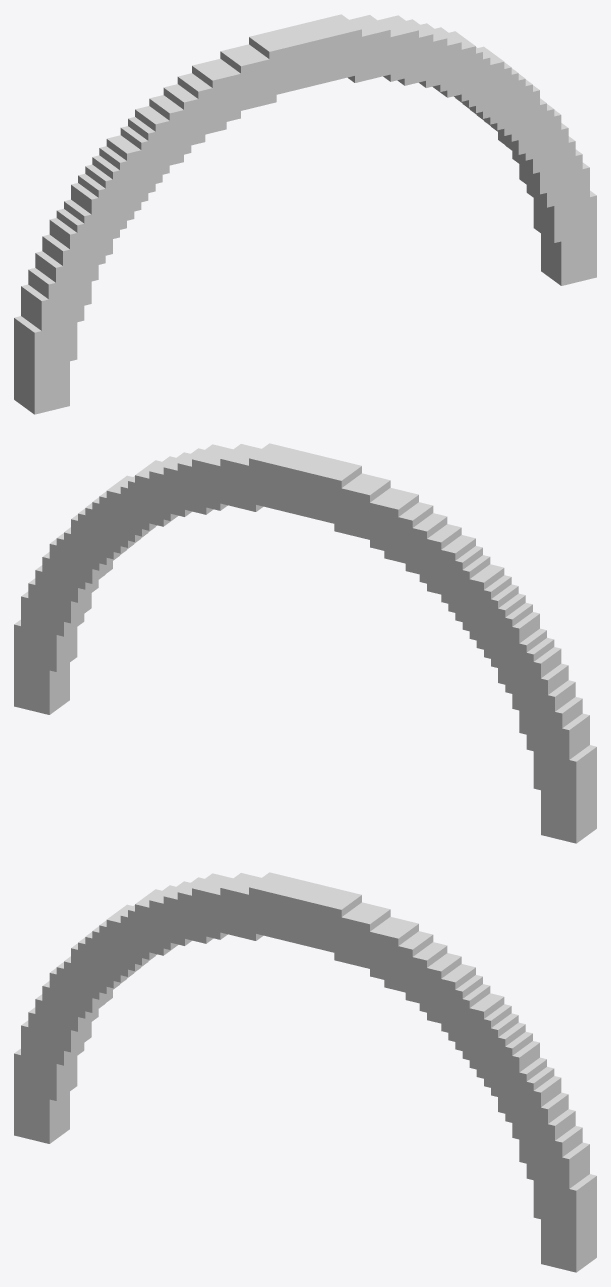
File: tax_building_arc.obj
3 views of the same model, one above another, from view 1: azimuth 30°, elevation 25°; view 2: azimuth 150°, elevation 25°; view 3: azimuth 330°, elevation 25° (orthographic).
Bounding box in the file's own units: 7.9 × 4.1 × 0.5.
Materials: 1 (1 with a texture image).
